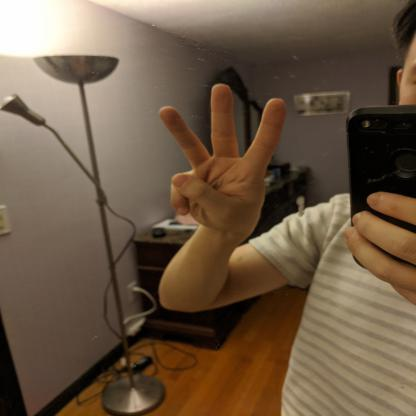W: (155, 81, 290, 239)
